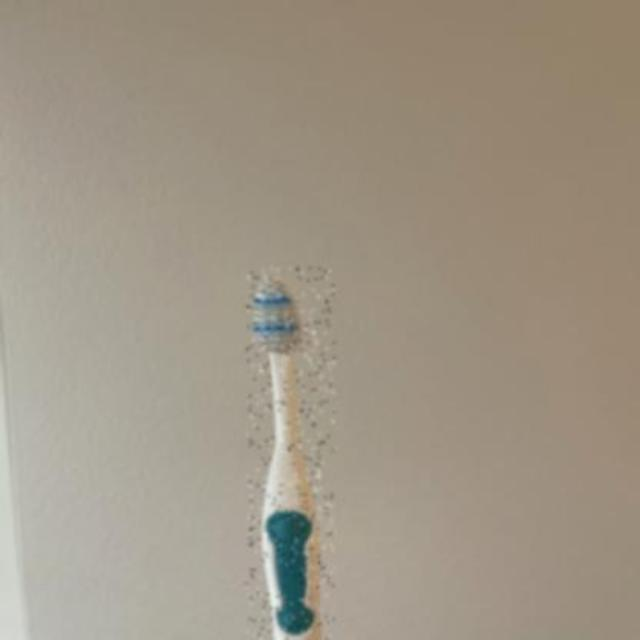toothbrush: (247, 268, 336, 640)
